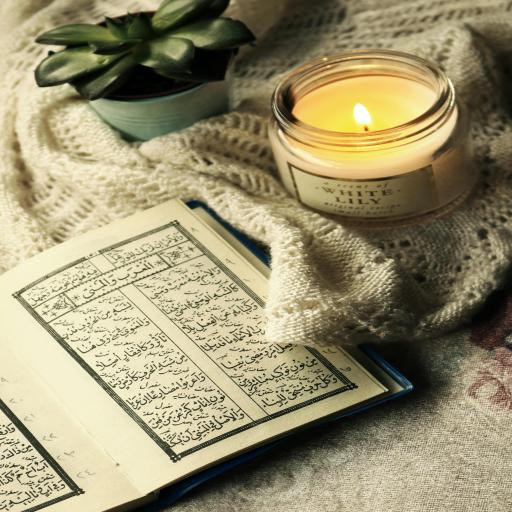candlelight: (244, 40, 483, 226)
